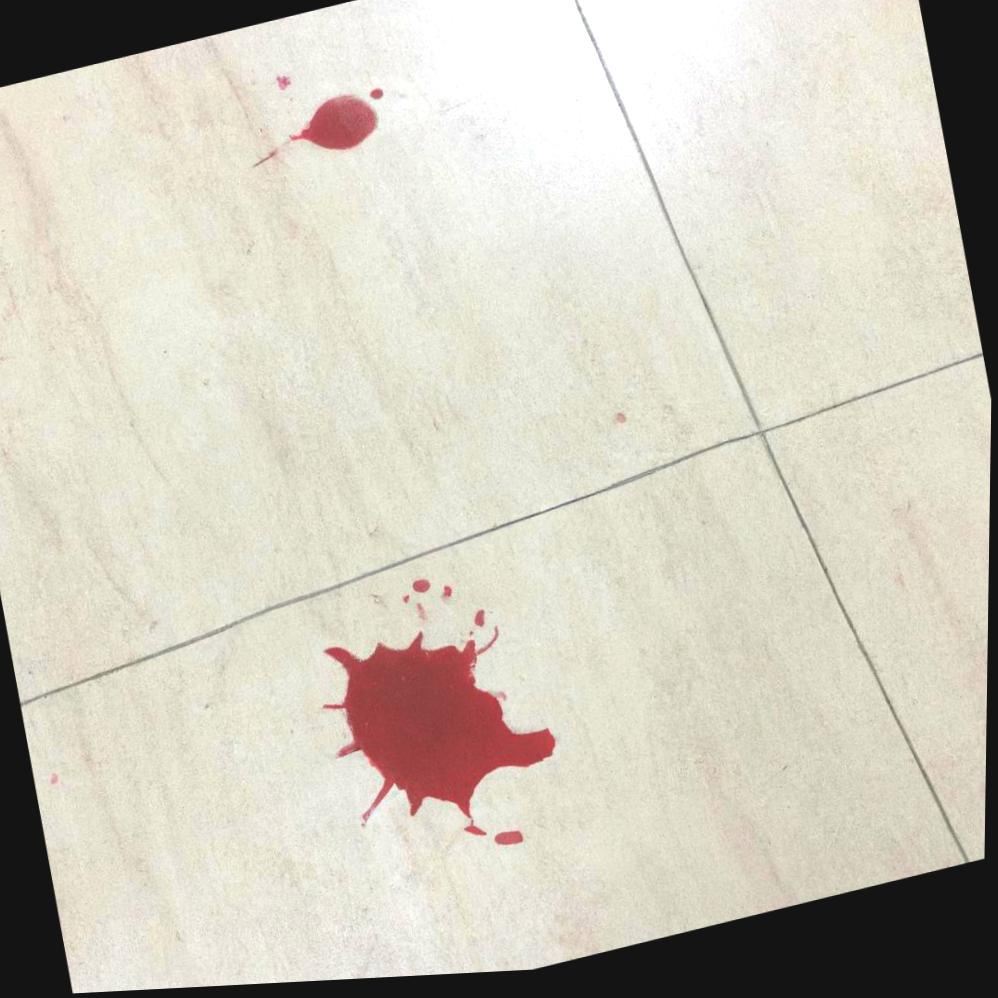Fire: (324, 628, 560, 841), (292, 97, 378, 154), (497, 835, 527, 850), (413, 583, 433, 597), (477, 614, 488, 632), (371, 91, 385, 103), (445, 590, 455, 603)
